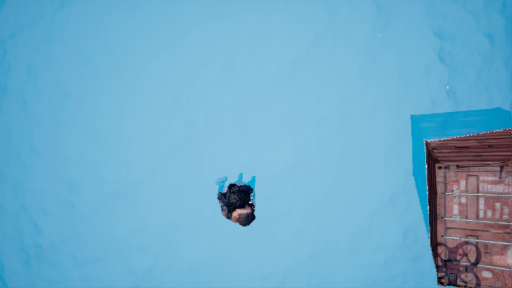person: (208, 173, 273, 228)
